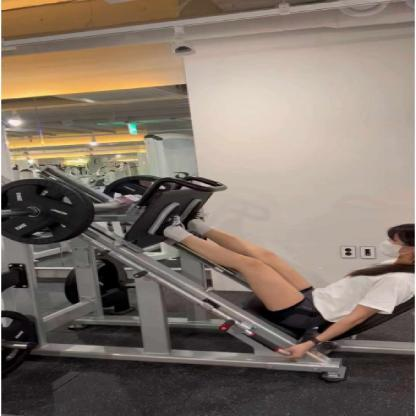leg press: (1, 142, 416, 416)
